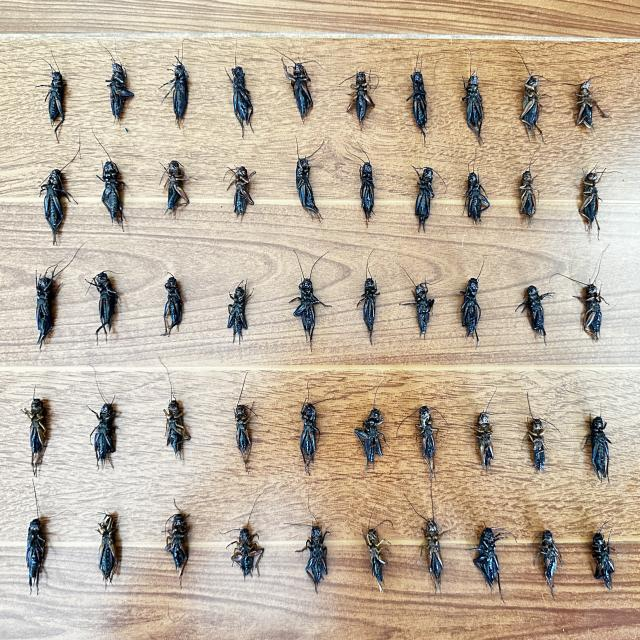no: (293, 278, 330, 350), (473, 527, 507, 599), (40, 169, 71, 244), (36, 66, 65, 139), (354, 407, 387, 471), (516, 285, 554, 339), (89, 271, 118, 340), (283, 61, 313, 122), (230, 524, 264, 577), (401, 282, 434, 336), (303, 526, 329, 592), (575, 79, 609, 129), (106, 61, 134, 120), (296, 157, 322, 220), (91, 403, 116, 468), (416, 405, 437, 482), (25, 398, 46, 474), (462, 71, 483, 144), (96, 514, 117, 587), (165, 399, 190, 459), (536, 530, 558, 598), (348, 72, 374, 129), (36, 272, 55, 350), (588, 416, 611, 480), (232, 67, 253, 137), (166, 512, 188, 577), (102, 160, 124, 225), (358, 277, 379, 345), (26, 518, 45, 593), (300, 403, 320, 474), (407, 71, 427, 141), (591, 531, 615, 589), (579, 171, 600, 237), (425, 520, 444, 592), (461, 278, 481, 346), (227, 285, 250, 342), (366, 528, 386, 593), (582, 282, 604, 341), (414, 167, 434, 231), (520, 75, 540, 138), (230, 166, 255, 215), (465, 172, 489, 222), (166, 161, 189, 212), (163, 275, 182, 335), (171, 60, 189, 121), (235, 404, 251, 471), (528, 418, 546, 470), (477, 412, 493, 470), (360, 162, 374, 226), (243, 544, 249, 554), (35, 543, 44, 549), (176, 532, 183, 537), (30, 528, 35, 534), (375, 548, 380, 553)
